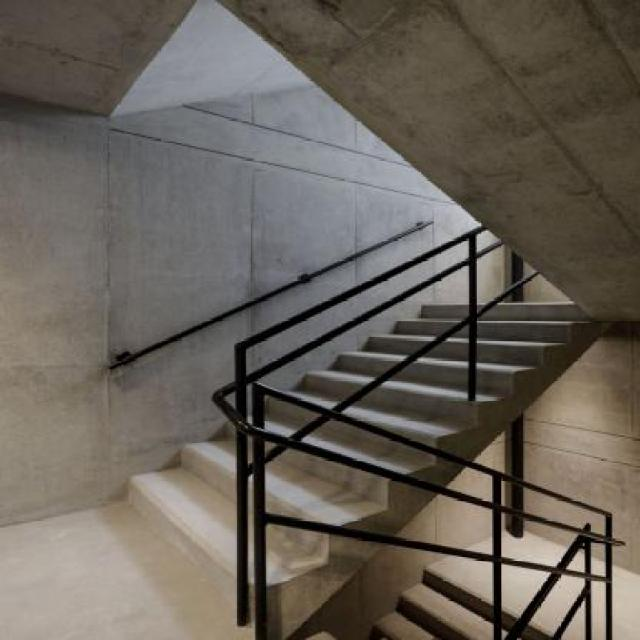stair: (59, 182, 630, 640)
